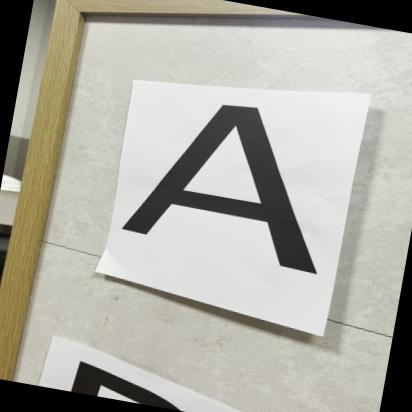seat: (112, 82, 372, 285)
